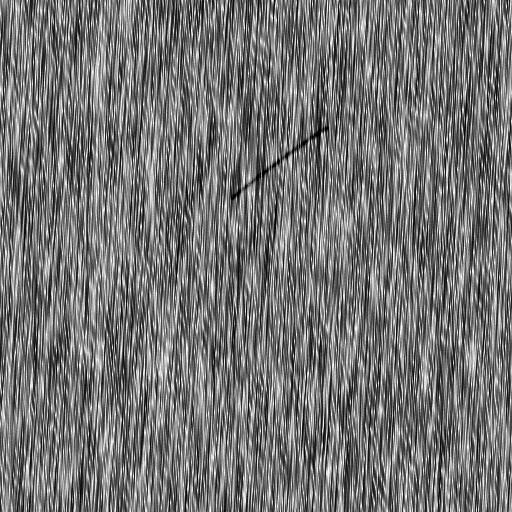DefectTypeC: (232, 127, 333, 200)
